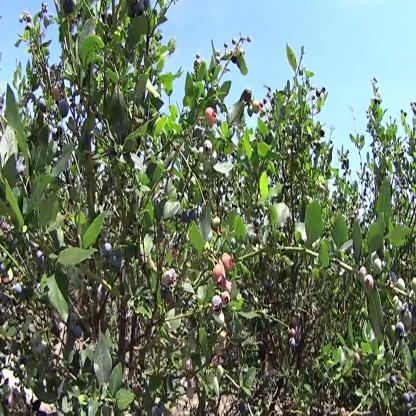intermediate: (215, 263, 226, 286), (221, 251, 233, 271), (207, 109, 216, 128), (222, 293, 231, 306)
mature: (103, 241, 123, 268), (127, 1, 152, 15), (211, 292, 224, 313), (60, 102, 70, 120), (397, 323, 405, 342)
young: (199, 138, 218, 171), (358, 265, 374, 293), (393, 296, 404, 317), (165, 270, 177, 288), (373, 257, 384, 276), (182, 357, 193, 372), (217, 364, 224, 380), (399, 278, 406, 293), (220, 331, 227, 345)
